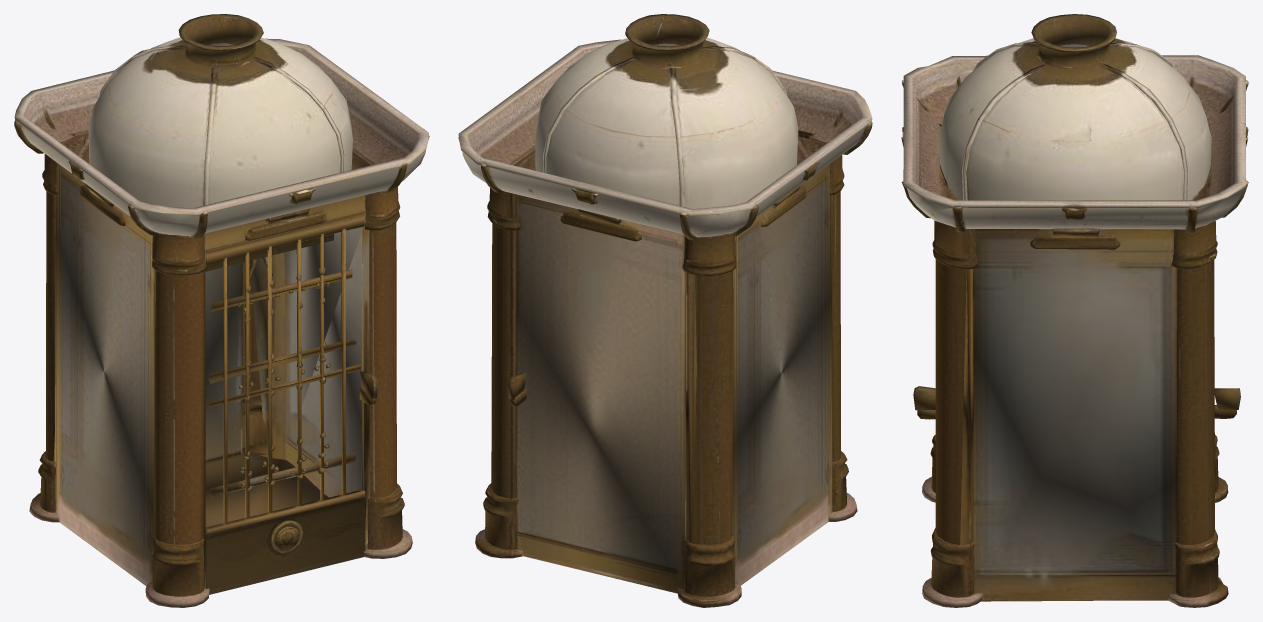
The model's file is tower-lift.glb.
The picture shows the model from 3 angles, left to right: view 1: azimuth 30°, elevation 25°; view 2: azimuth 150°, elevation 25°; view 3: azimuth 270°, elevation 25°; orthographic projection. The views are drawn at different scales.
Parts seen in each view (by area): view 1: tower-lift; view 2: tower-lift; view 3: tower-lift.
Part boxes in pixels (x1,y1,x2,y2): tower-lift: (14, 14, 429, 607); tower-lift: (458, 14, 872, 607); tower-lift: (901, 14, 1248, 607).
Bounding box in the file's own units: 1.89 × 3 × 1.85.
1 material, 1 textured.
